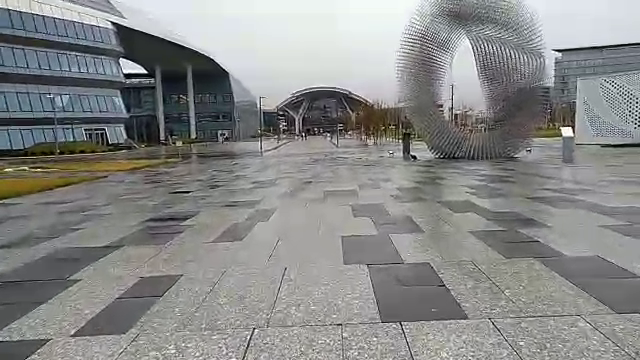mega: (271, 84, 379, 143)
